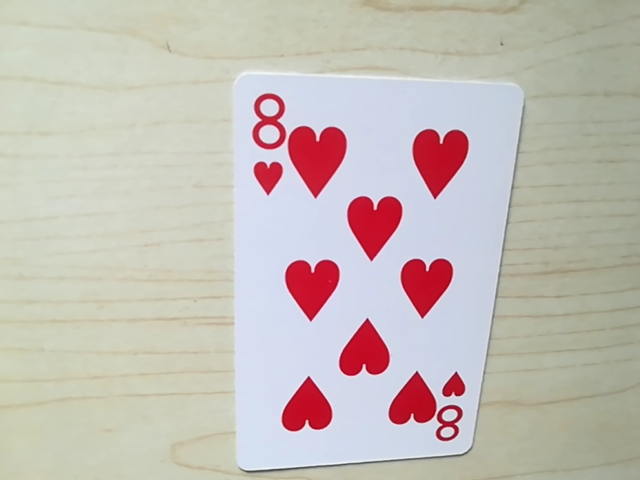hx 8: (245, 87, 292, 155), (426, 390, 469, 448)
